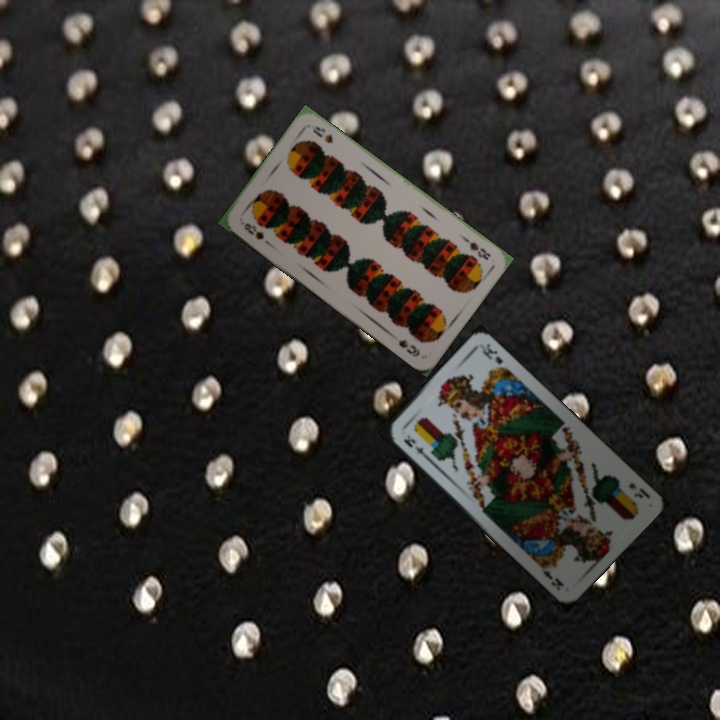EK: (399, 431, 431, 461), (624, 478, 652, 501)
S8: (459, 233, 494, 263), (237, 217, 267, 242)
